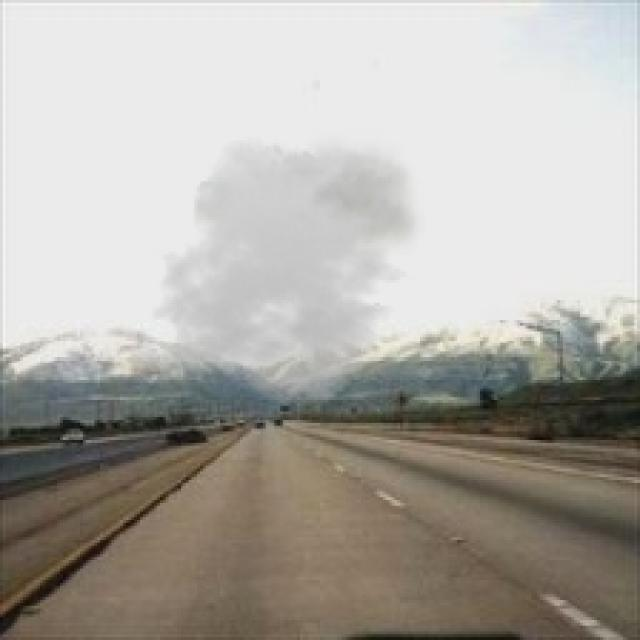smoke: (151, 128, 426, 406)
